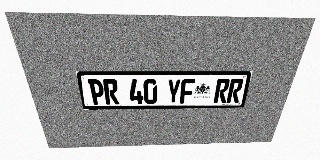0: (143, 79, 157, 104)
4: (129, 79, 143, 104)
F: (180, 79, 195, 104)
P: (88, 79, 105, 105)
R: (226, 79, 244, 103), (103, 79, 119, 105), (213, 79, 230, 103)
Y: (166, 79, 181, 104)
